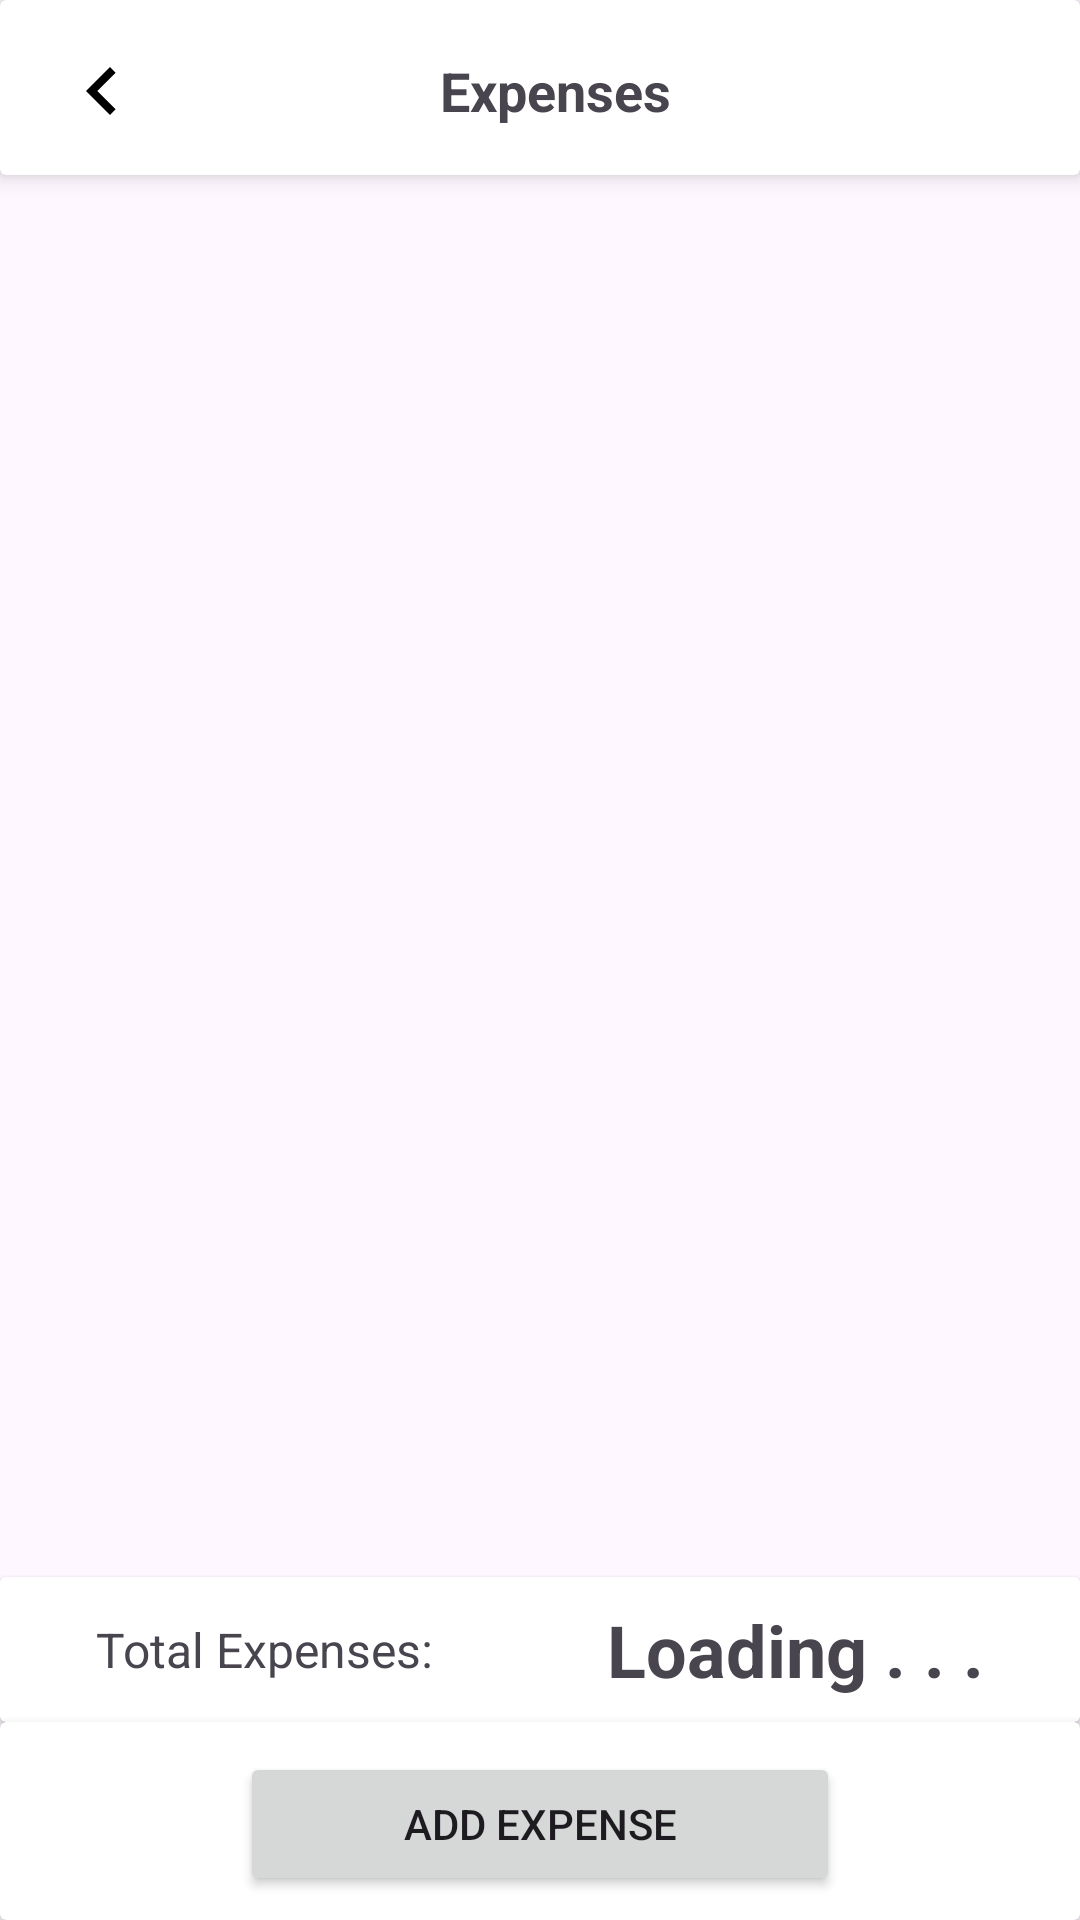

Screen size 1080px x 1920px. Icon name, then its box in pixels as (x1, y1, x2, y2):
keyboard arrow left: (86, 67, 116, 115)
